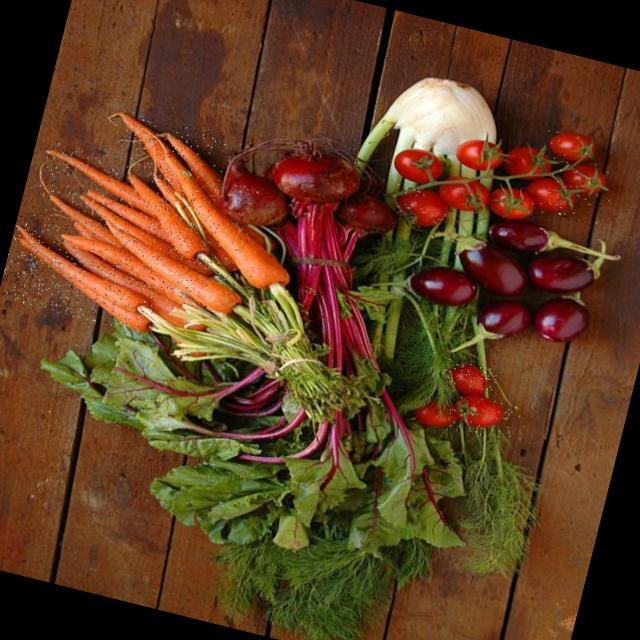Tomate: (424, 171, 497, 224), (445, 390, 518, 441), (553, 155, 617, 209), (388, 182, 452, 232), (383, 145, 449, 191), (397, 394, 462, 437), (539, 122, 597, 167), (528, 175, 579, 219), (441, 357, 498, 394)
Zanahoria: (23, 136, 259, 293), (83, 111, 230, 304), (0, 213, 167, 334)
